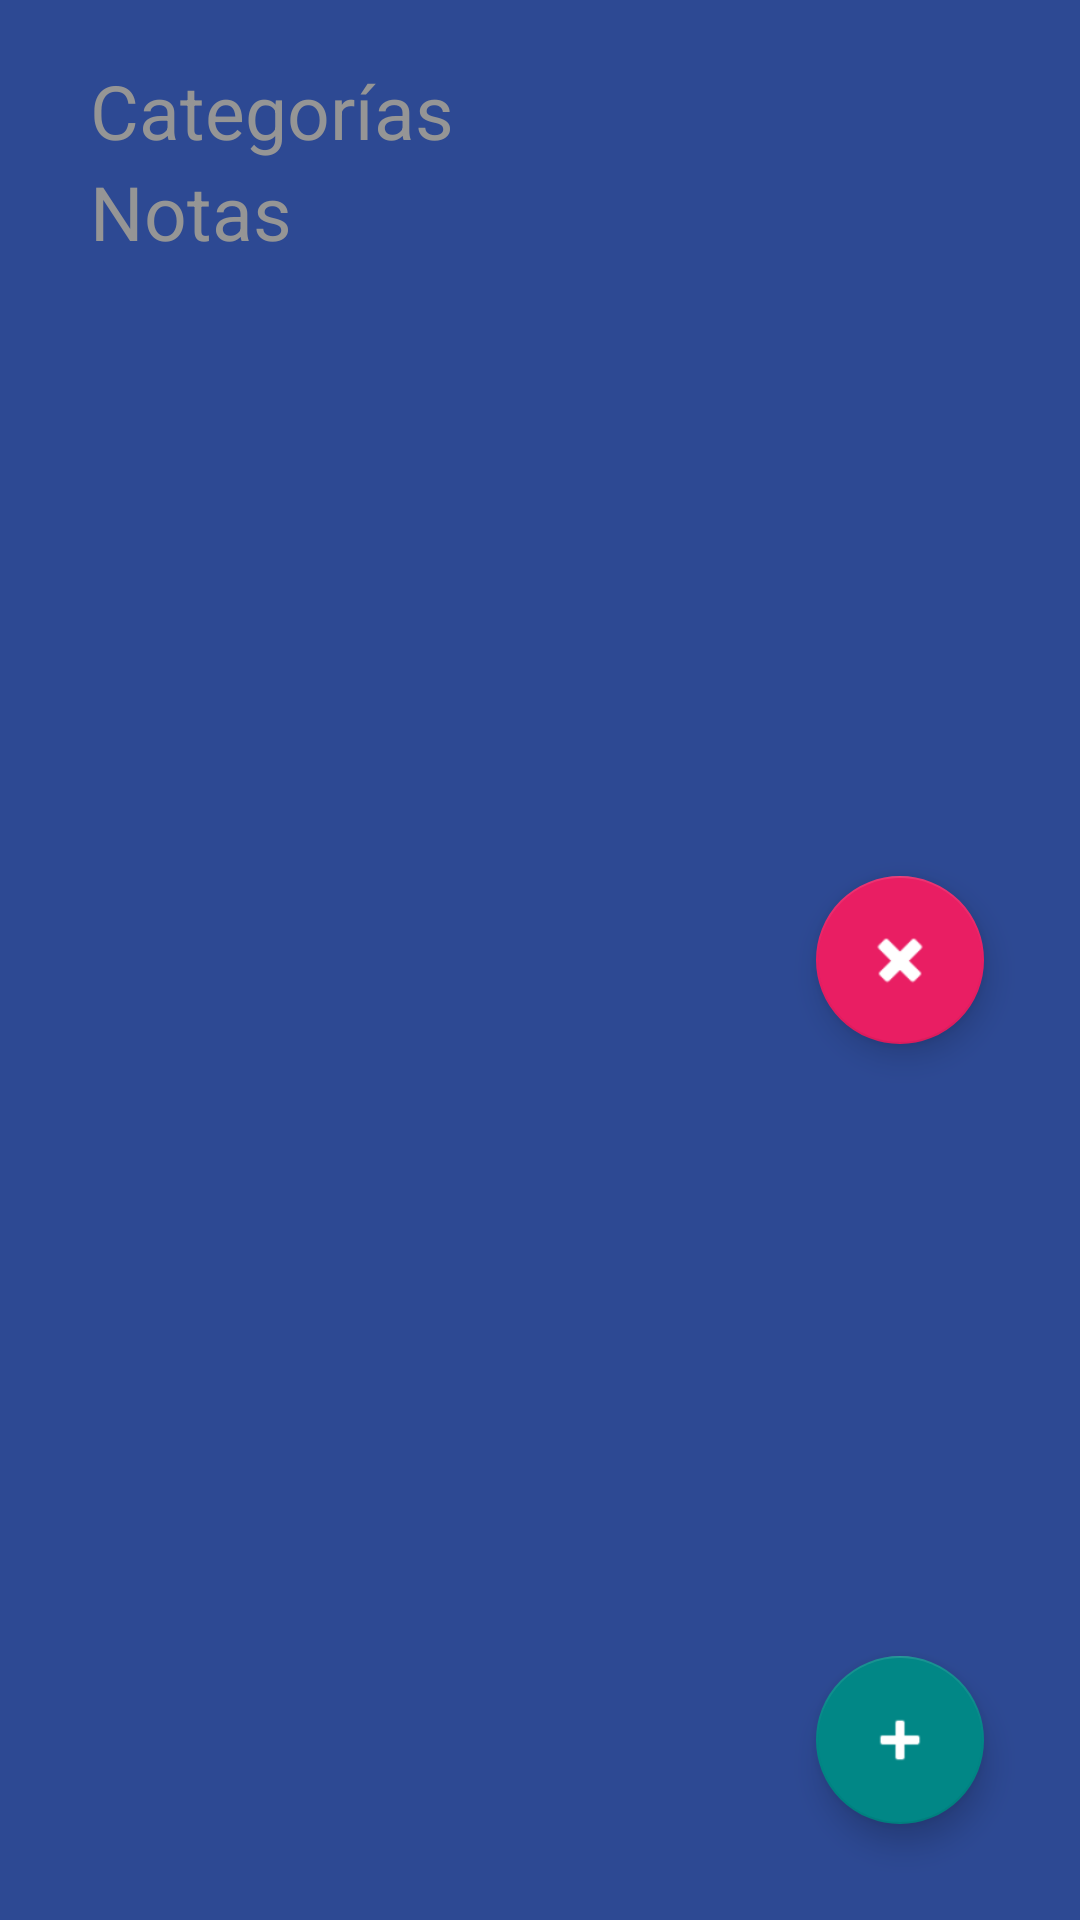

Icon bounding boxes for this 1080 × 1920 phone screenshot, format (x1, y1, x2, y2):
add: (816, 1656, 984, 1824)
delete: (816, 876, 984, 1044)
